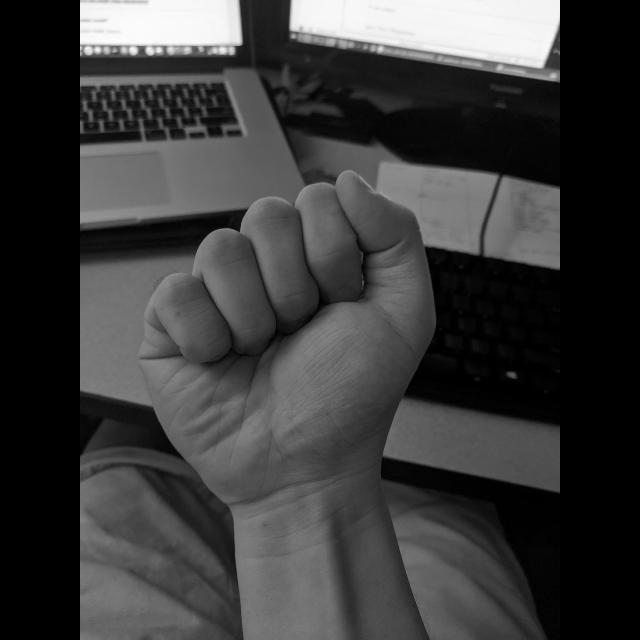A: (131, 160, 445, 516)
